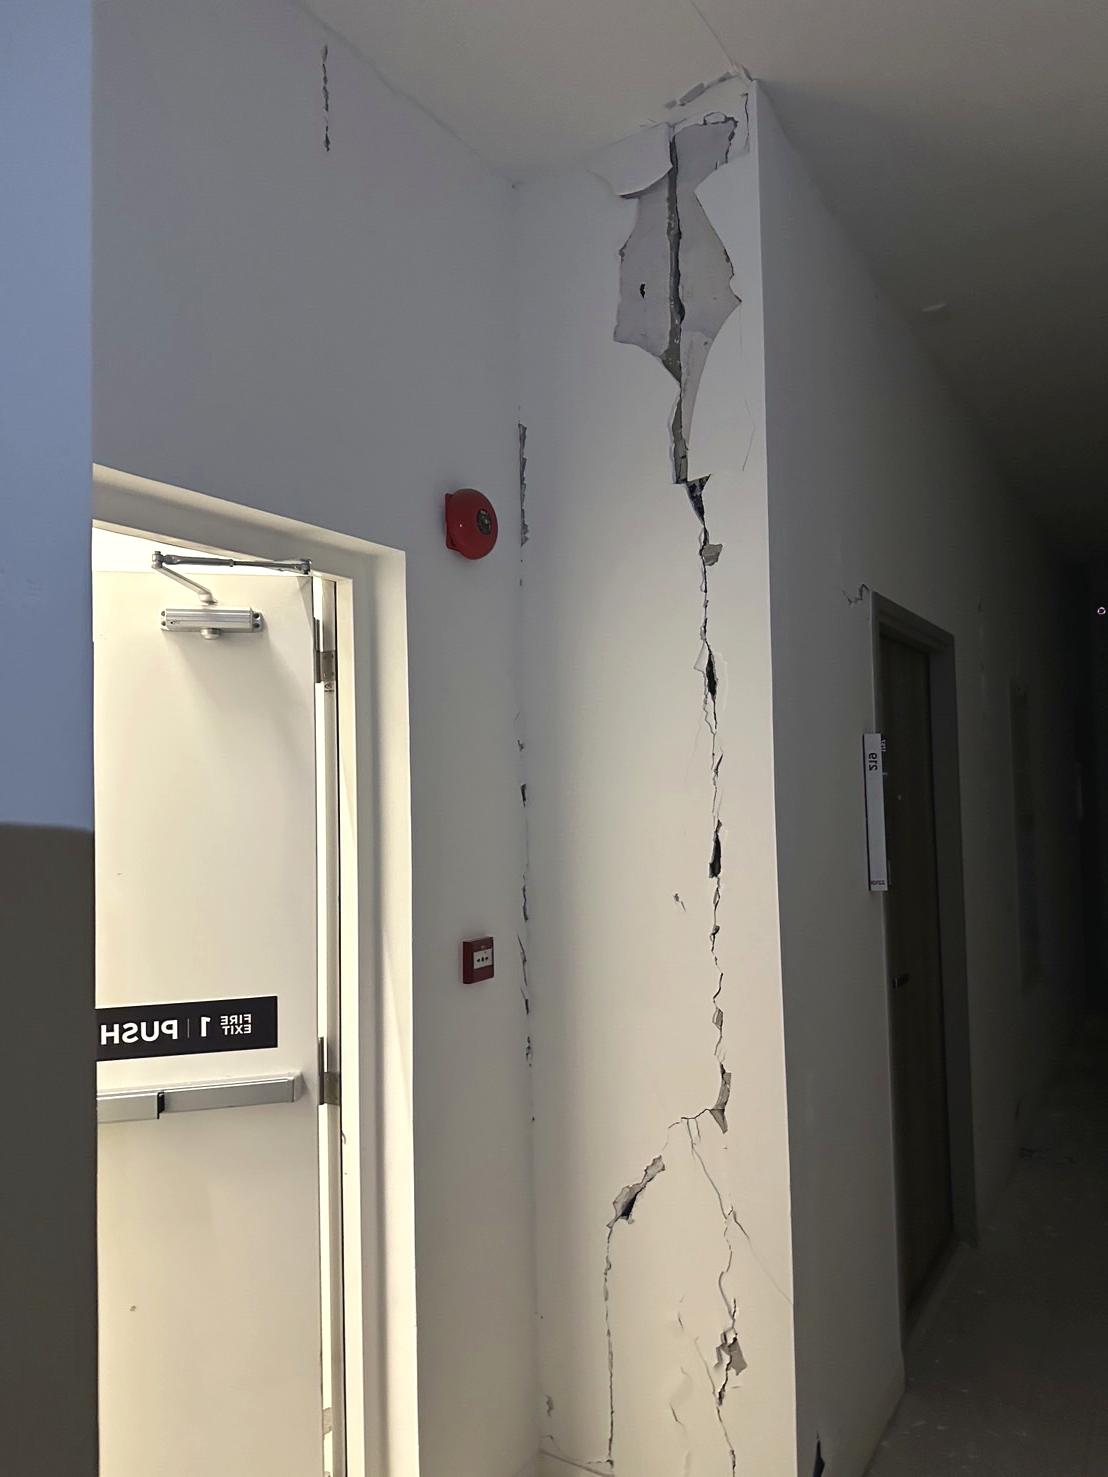High: (514, 74, 808, 1474)
